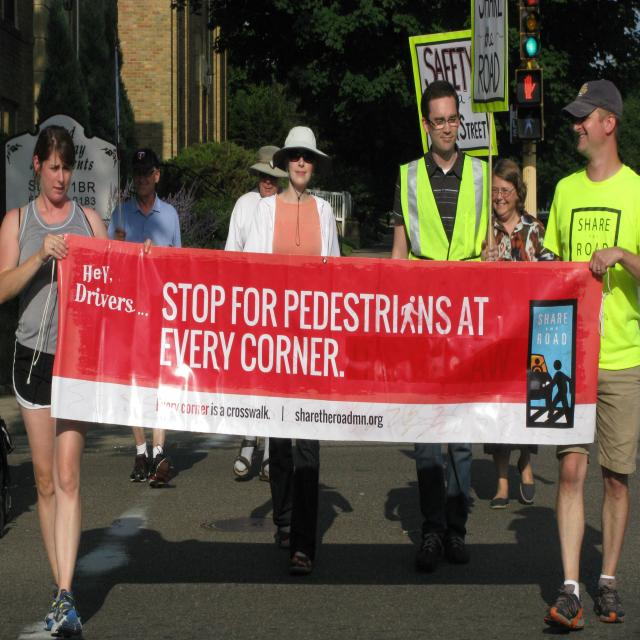body: (0, 419, 621, 635), (0, 122, 164, 640), (536, 76, 640, 637), (390, 80, 500, 574), (241, 124, 342, 576), (478, 158, 555, 512), (105, 147, 182, 489), (222, 144, 290, 482)
